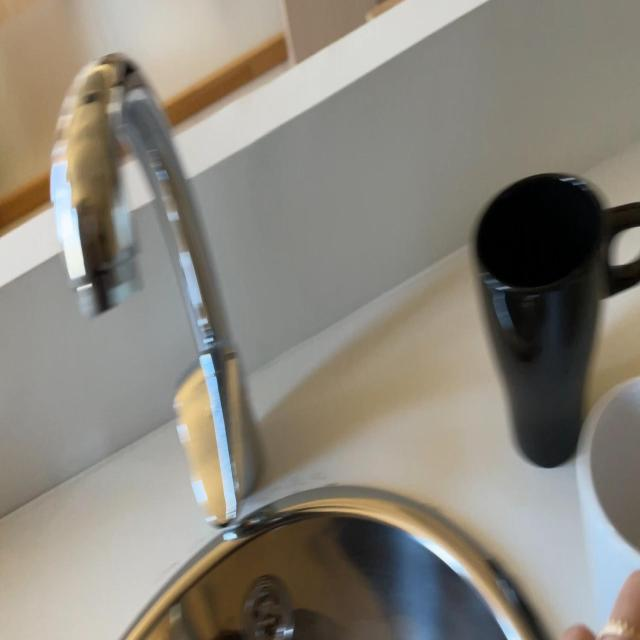cup: (470, 175, 640, 469)
